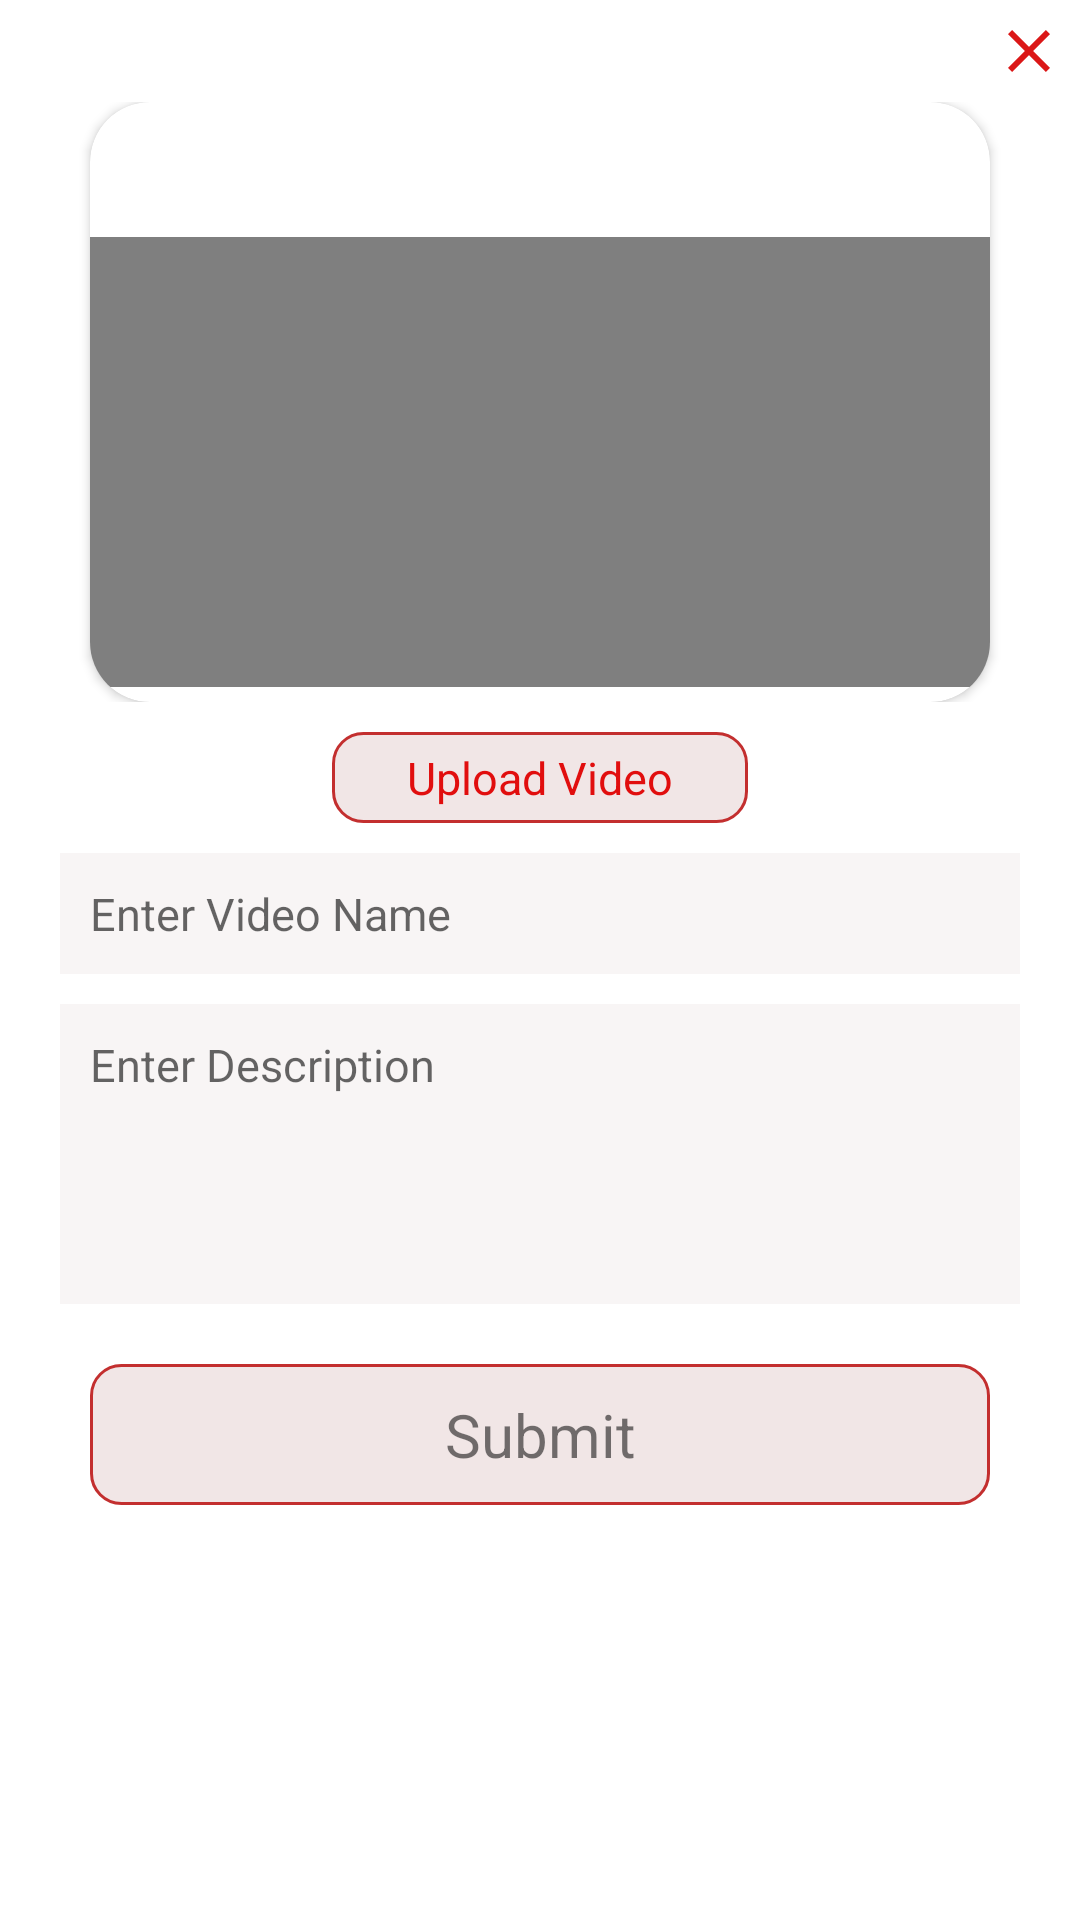

Icon click points for this 1080 x 1920 phone screenshot, format point (x, y):
close: point (1029, 51)
